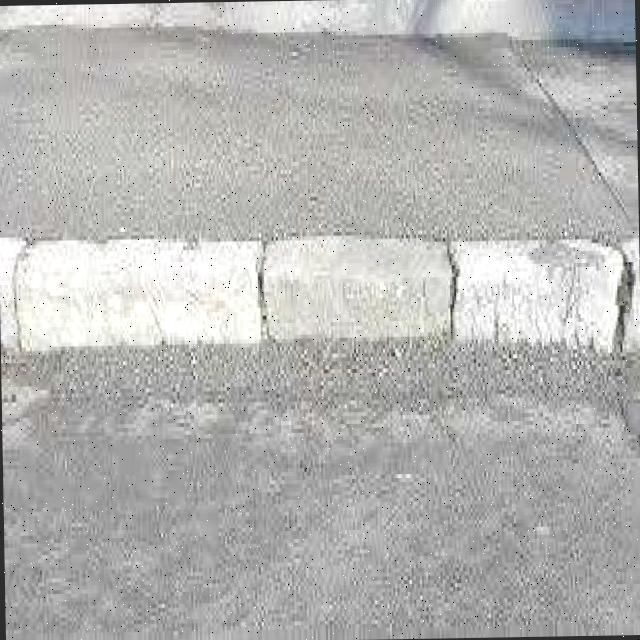curb: (1, 231, 640, 352)
